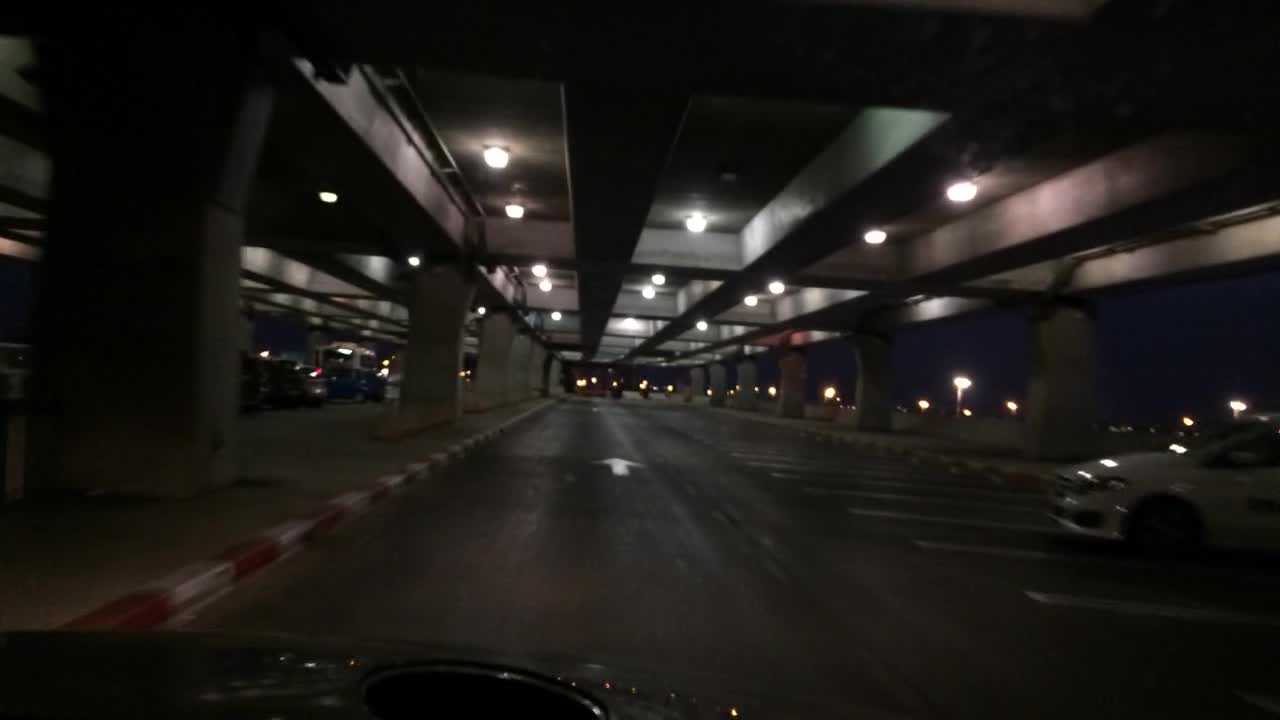car: (1043, 410, 1279, 563), (268, 354, 329, 410), (234, 346, 275, 415), (322, 361, 384, 405), (0, 341, 35, 403)
